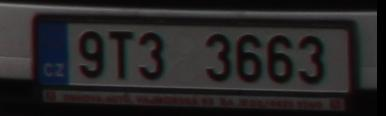3: (299, 35, 325, 84), (206, 33, 231, 81), (139, 32, 164, 79)
6: (236, 34, 261, 82), (268, 35, 292, 84)
9: (78, 31, 105, 79)
T: (109, 31, 133, 79)
